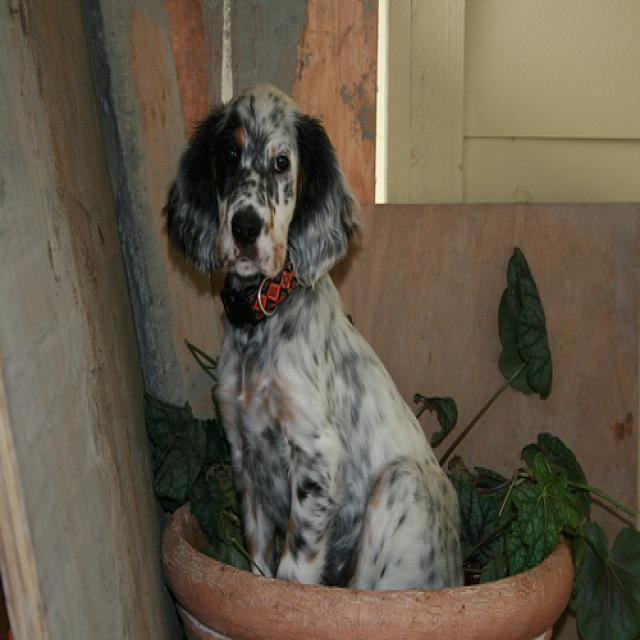dog-english_setter: (156, 71, 471, 600)
